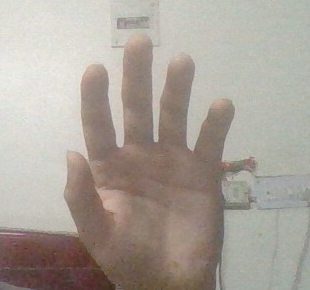move: (41, 28, 240, 287)
